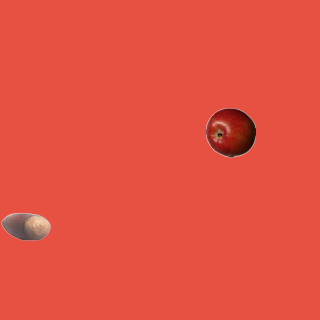Apple Braeburn: (205, 107, 255, 157)
Hazelnut: (0, 201, 50, 251)
